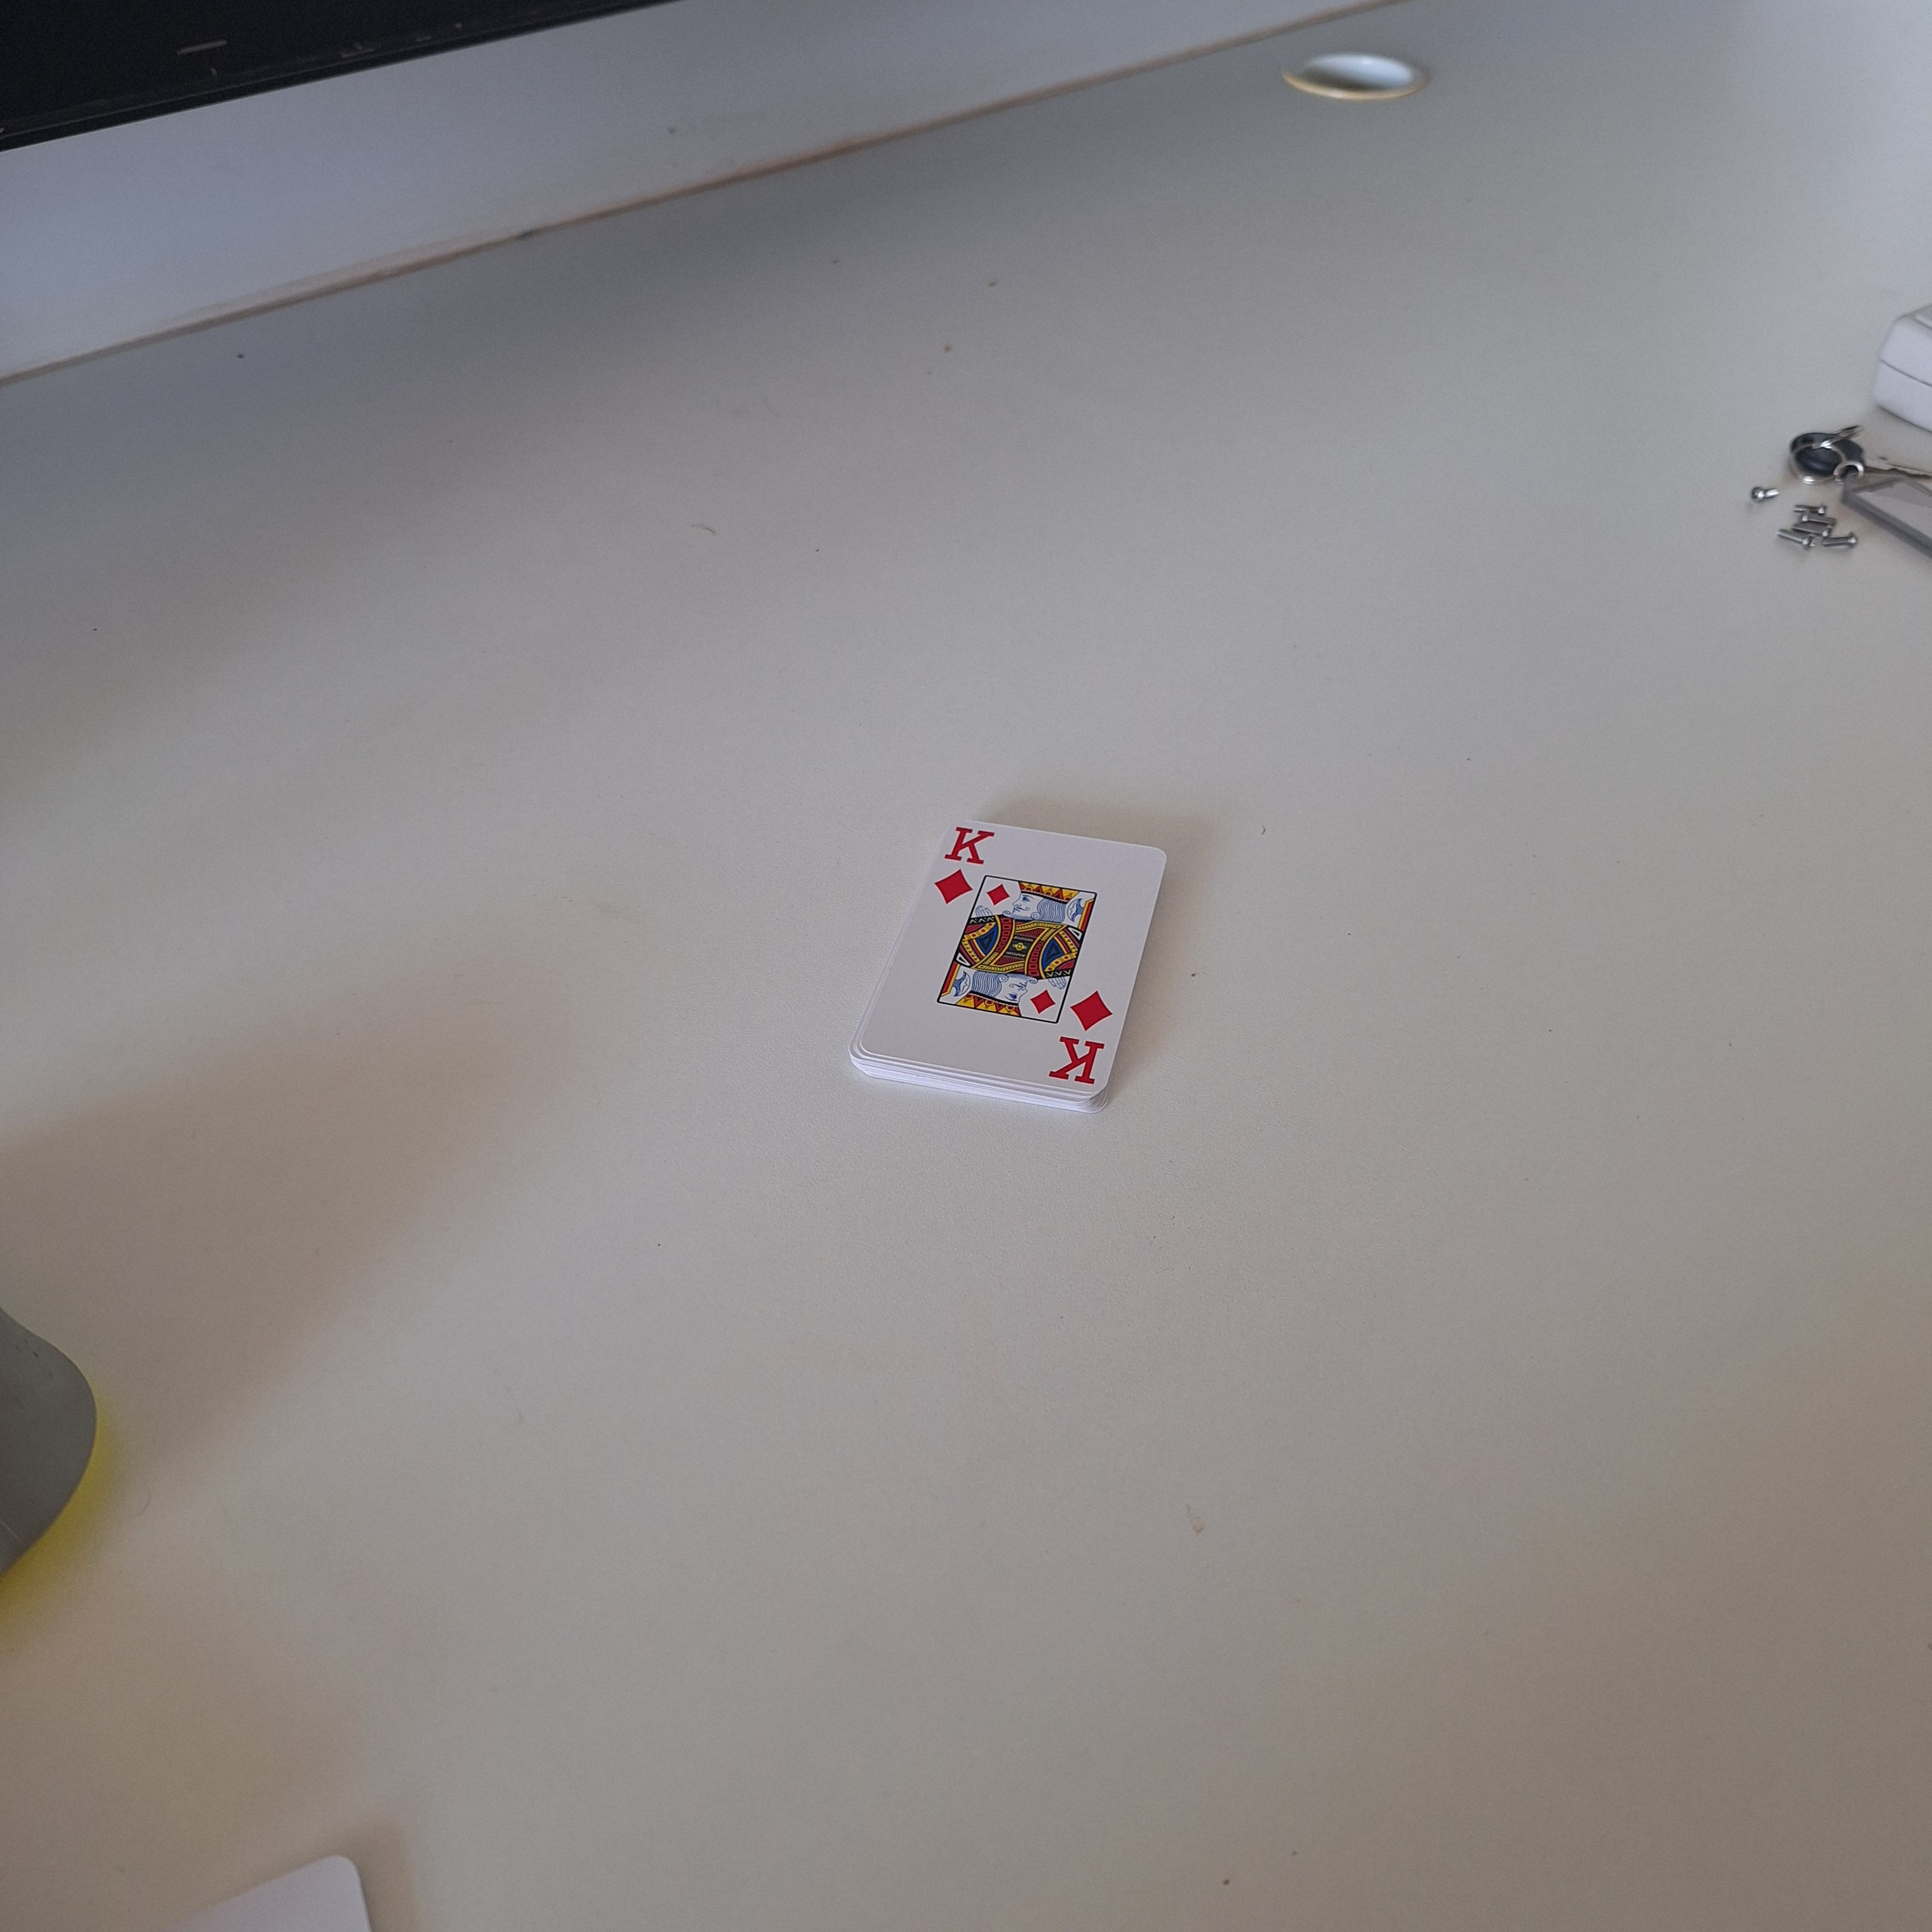KO: (1049, 989, 1115, 1095), (925, 821, 994, 906)
